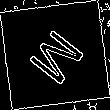M_SE: (21, 21, 89, 89)
